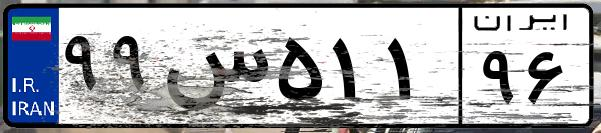1: (385, 28, 445, 110), (330, 28, 385, 110)
5: (270, 28, 330, 110)
6: (525, 38, 570, 115)
9: (57, 26, 110, 100), (475, 38, 525, 113), (110, 28, 158, 98)
س: (158, 20, 270, 120)
